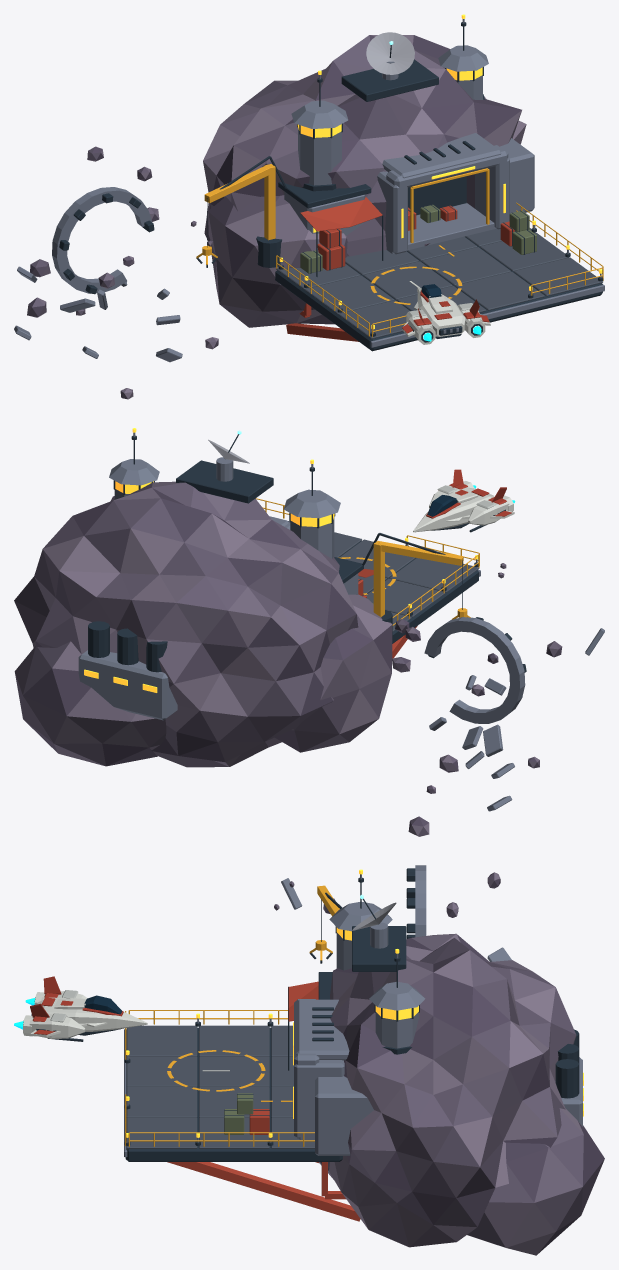
The model's file is frontier_depot.glb.
The picture shows the model from 3 angles, top to bottom: view 1: azimuth 30°, elevation 25°; view 2: azimuth 150°, elevation 25°; view 3: azimuth 270°, elevation 25°; orthographic projection. The views are drawn at different scales.
Visible parts, largest first — view 1: Asteroid | primary mass, Asteroid | port shoulder, Salvage | broken ring, Dock | structural slab, Hangar | ceiling, Operations | upper equipment shelf, Hangar | foundation, Dock | deck panel.006, Dock | deck panel.007, Dock | deck panel.009, Dock | deck panel.001, Operations | drum (+25 smaller); view 2: Asteroid | primary mass, Asteroid | rear outcrop, Asteroid | port shoulder, Rear | service module, Salvage | broken ring, Operations | upper equipment shelf, Dock | deck panel, Dock | deck panel.001, Operations | cap, Nomad | armored central hull, Dock | structural slab, Lookout | cap (+7 smaller); view 3: Asteroid | primary mass, Asteroid | rear outcrop, Habitation | starboard module, Dock | structural slab, Dock | lower diagonal.002, Hangar | ceiling, Dock | deck panel, Dock | deck panel.001, Dock | deck panel.009, Dock | deck panel.006, Dock | deck panel.003, Dock | deck panel.004 (+18 smaller).
Part boxes in pixels (x1,y1,x2,y2): Asteroid | primary mass: (203, 35, 526, 256); Asteroid | port shoulder: (208, 195, 347, 327); Salvage | broken ring: (52, 187, 152, 293); Dock | structural slab: (275, 237, 602, 351); Hangar | ceiling: (382, 133, 501, 178); Operations | upper equipment shelf: (341, 59, 438, 101); Hangar | foundation: (386, 203, 496, 253); Dock | deck panel.006: (455, 271, 544, 310); Dock | deck panel.007: (421, 247, 510, 285); Dock | deck panel.009: (514, 257, 603, 296); Dock | deck panel.001: (305, 275, 394, 314); Operations | drum: (298, 128, 341, 185); Asteroid | primary mass: (14, 481, 358, 767); Asteroid | rear outcrop: (14, 641, 166, 766); Asteroid | port shoulder: (275, 594, 392, 752); Rear | service module: (78, 650, 177, 720); Salvage | broken ring: (424, 617, 525, 723); Operations | upper equipment shelf: (176, 460, 273, 503); Dock | deck panel: (389, 558, 479, 592); Dock | deck panel.001: (366, 578, 445, 617); Operations | cap: (283, 489, 340, 518); Nomad | armored central hull: (413, 487, 494, 532); Dock | structural slab: (339, 541, 478, 643); Lookout | cap: (109, 459, 159, 485); Asteroid | primary mass: (318, 933, 576, 1247); Asteroid | rear outcrop: (467, 1108, 604, 1255); Habitation | starboard module: (315, 1076, 373, 1155); Dock | structural slab: (125, 1027, 342, 1161); Dock | lower diagonal.002: (167, 1162, 360, 1221); Hangar | ceiling: (296, 999, 349, 1060); Dock | deck panel: (126, 1025, 197, 1056); Dock | deck panel.001: (199, 1025, 269, 1056); Dock | deck panel.009: (126, 1117, 197, 1148); Dock | deck panel.006: (126, 1087, 197, 1117); Dock | deck panel.003: (126, 1056, 197, 1086); Dock | deck panel.004: (199, 1056, 269, 1086).
Size of the model in its own units: 34.21 by 19.66 by 32.65.
